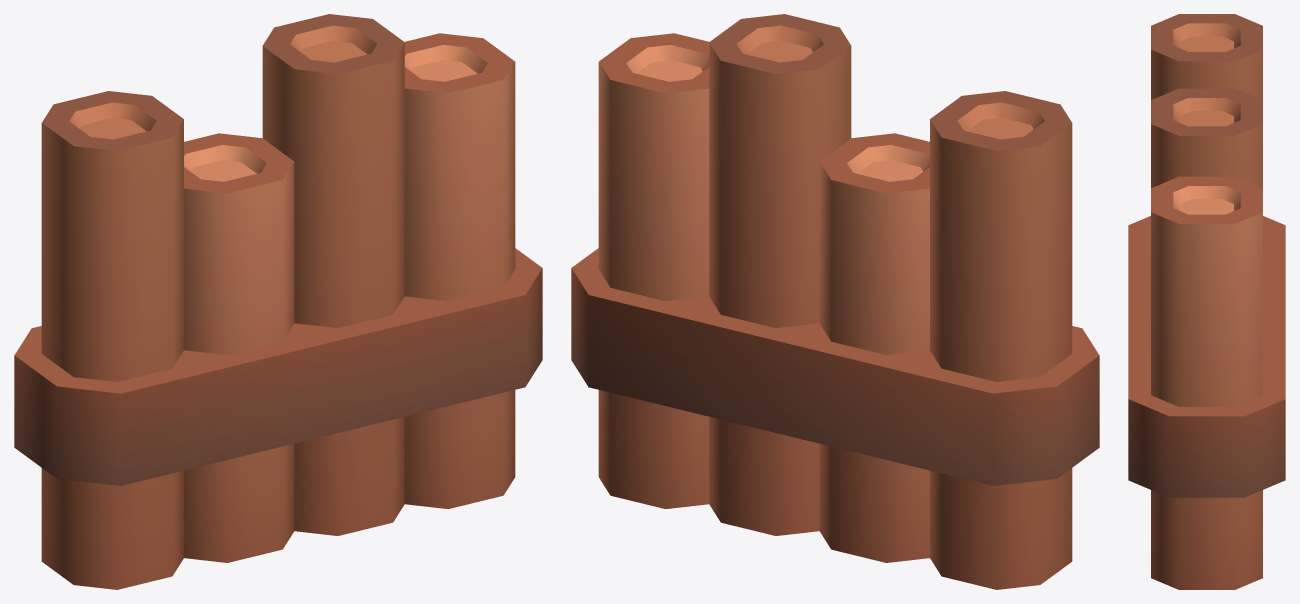
File: kenney-platformer-poles.glb
3 views of the same model, side by side, from view 1: azimuth 30°, elevation 25°; view 2: azimuth 150°, elevation 25°; view 3: azimuth 270°, elevation 25° (orthographic). The views are drawn at different scales.
Visible parts, largest first — view 1: poles; view 2: poles; view 3: poles.
Boxes of the visible parts, <box> form: poles: <box>14,14,542,589</box>; poles: <box>571,14,1099,589</box>; poles: <box>1128,14,1285,589</box>.
Size of the model in its own units: 1.1 by 1 by 0.35.
Materials: 1 (1 with a texture image).
